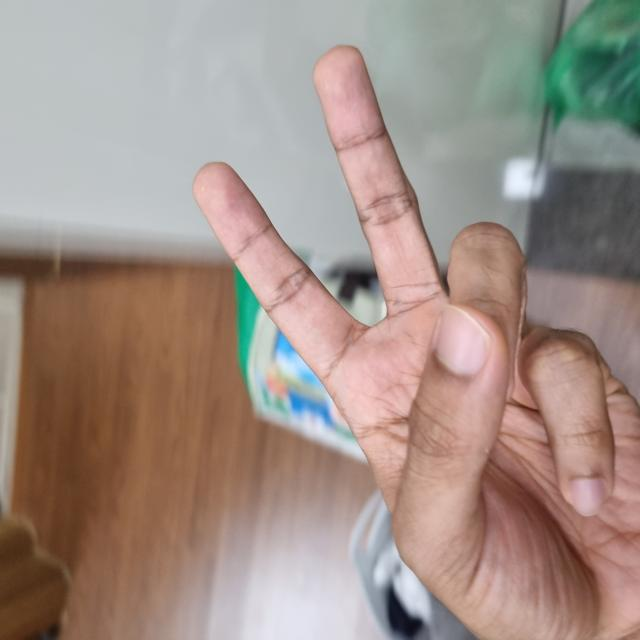Scissors: (1, 194, 594, 639)
